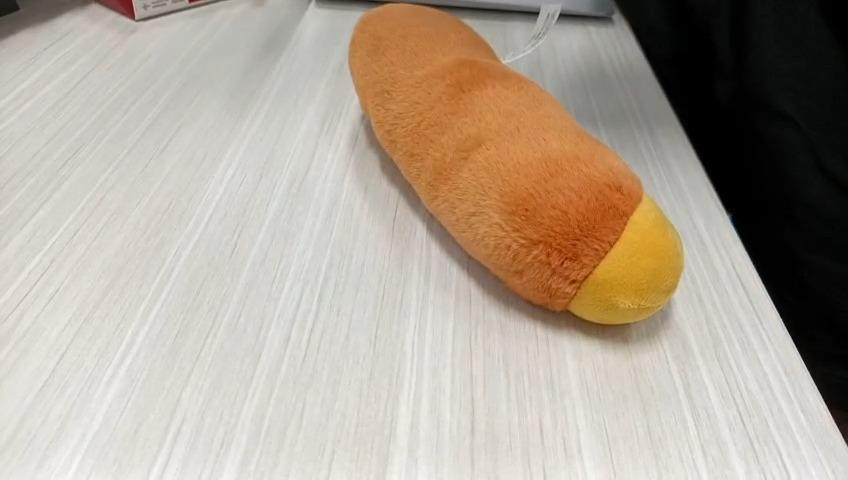hotdog: (349, 4, 683, 325)
